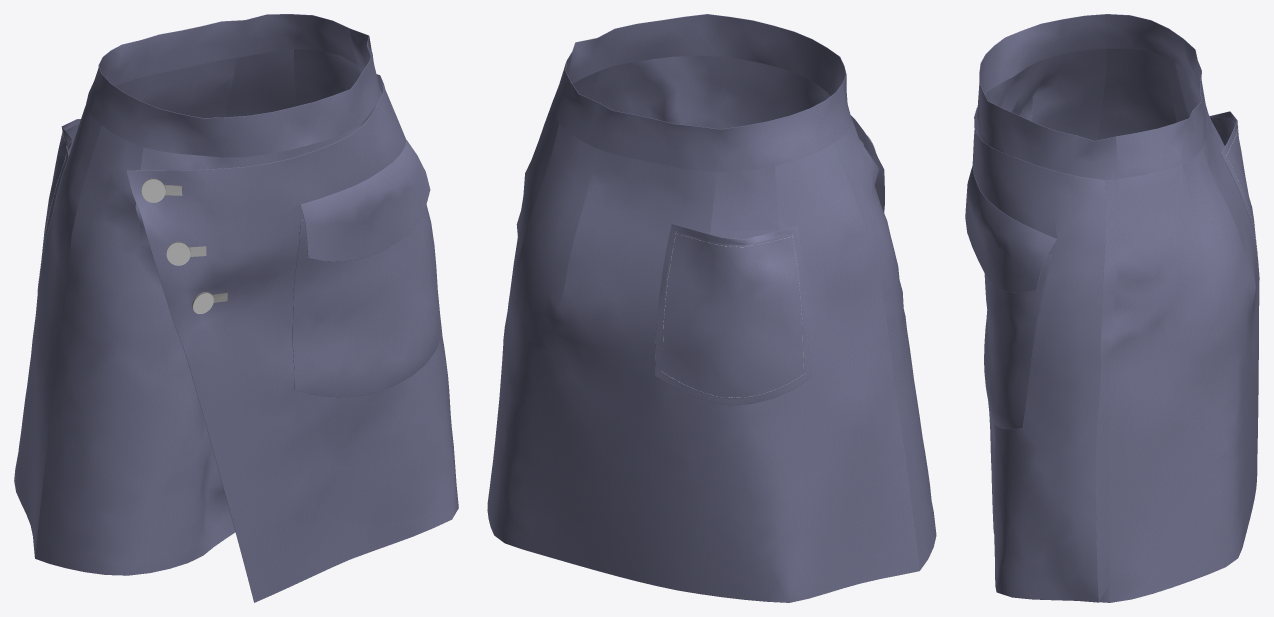
The picture shows the model from 3 angles, left to right: view 1: azimuth 30°, elevation 25°; view 2: azimuth 150°, elevation 25°; view 3: azimuth 270°, elevation 25°; orthographic projection. The views are drawn at different scales.
Parts seen in each view (by area): view 1: Pattern2D_447218, Pattern2D_50967, SKIRT1WAB, Pattern2D_215201, Pattern2D_447219, Pattern2D_447220, Pattern2D_447221; view 2: Pattern2D_215201, SKIRT1WAB, Pattern2D_447221, Pattern2D_50967, Pattern2D_447218; view 3: Pattern2D_215201, Pattern2D_447218, SKIRT1WAB, Pattern2D_50967, Pattern2D_447219, Pattern2D_447220, Pattern2D_447221.
Boxes of the visible parts, x1,y1,x2,y2 form: Pattern2D_447218: (126,74,458,602); Pattern2D_50967: (35,65,382,575); SKIRT1WAB: (86,14,380,157); Pattern2D_215201: (14,49,360,556); Pattern2D_447219: (292,205,442,397); Pattern2D_447220: (300,139,430,261); Pattern2D_447221: (37,119,80,292); Pattern2D_215201: (487,100,919,602); SKIRT1WAB: (552,14,852,171); Pattern2D_447221: (655,224,811,405); Pattern2D_50967: (572,55,936,570); Pattern2D_447218: (850,115,884,212); Pattern2D_215201: (1098,48,1259,602); Pattern2D_447218: (972,107,1105,602); SKIRT1WAB: (977,14,1206,179); Pattern2D_50967: (977,48,1119,602); Pattern2D_447219: (984,254,1052,429); Pattern2D_447220: (965,166,1056,292); Pattern2D_447221: (1209,111,1259,279).
Size of the model in its own units: 38.02 by 44.82 by 25.03.
